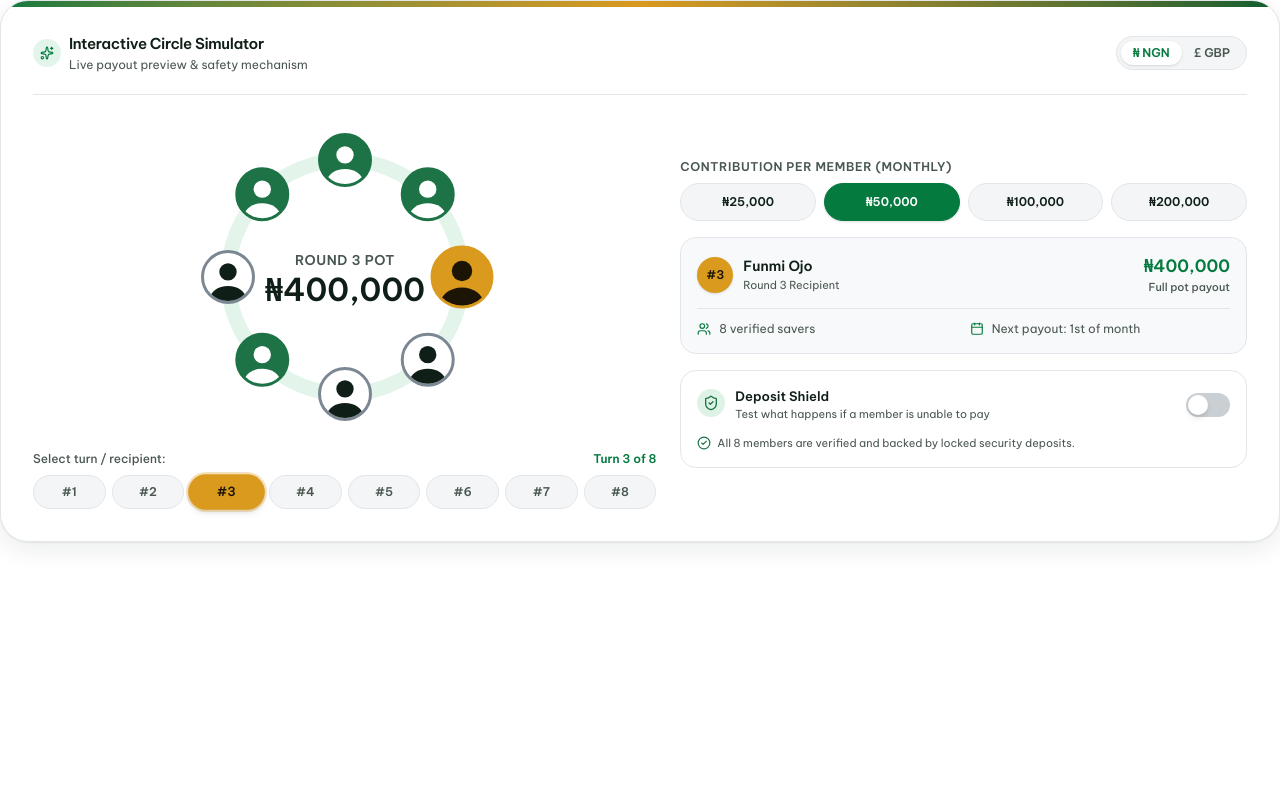
it: InteractiveCircleSimulator › simulates a missed payment and activates the deposit reserve guarantee
Click the switch named "Simulate missed payment": (1208, 405) [1186,393,1230,417]
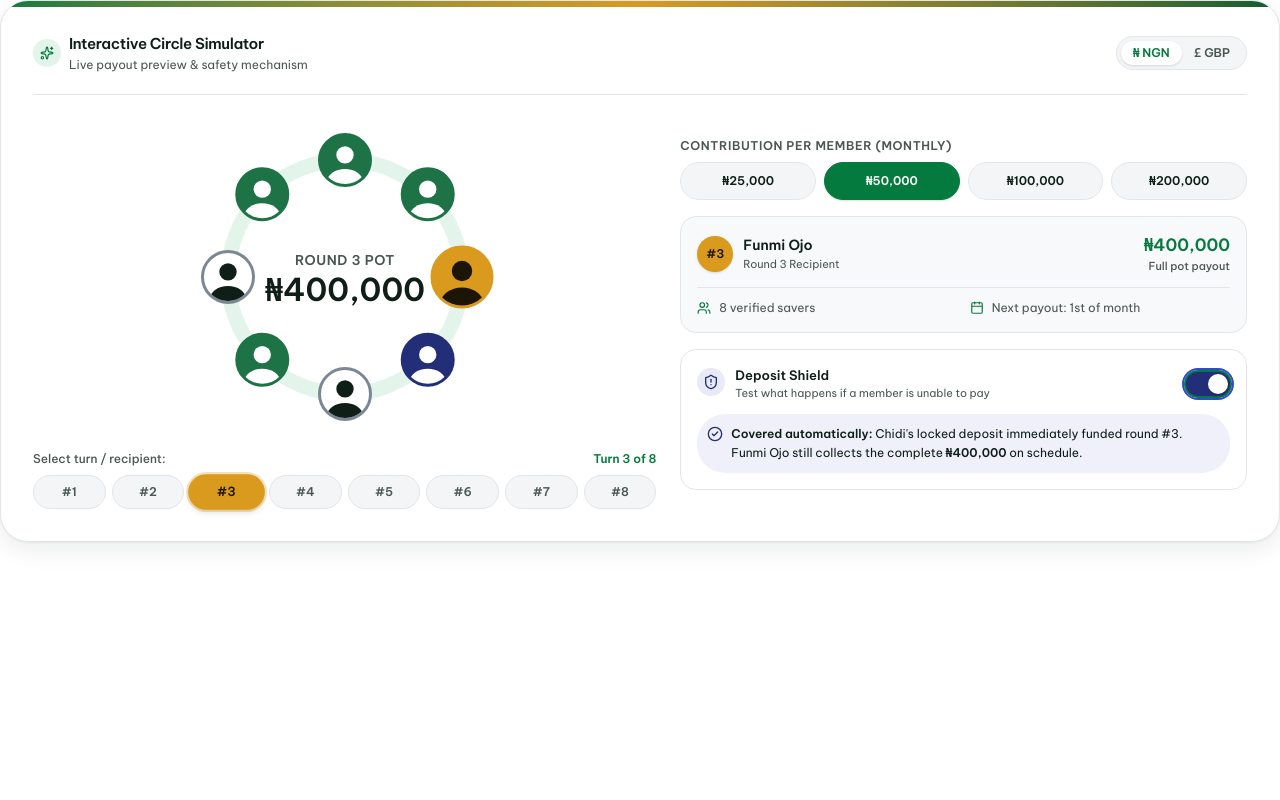
Expected: the text "Covered automatically:" is shown, [731,426,872,440]
